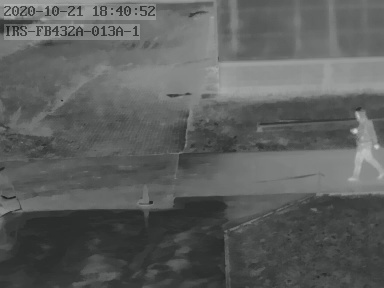person: (349, 106, 382, 180)
